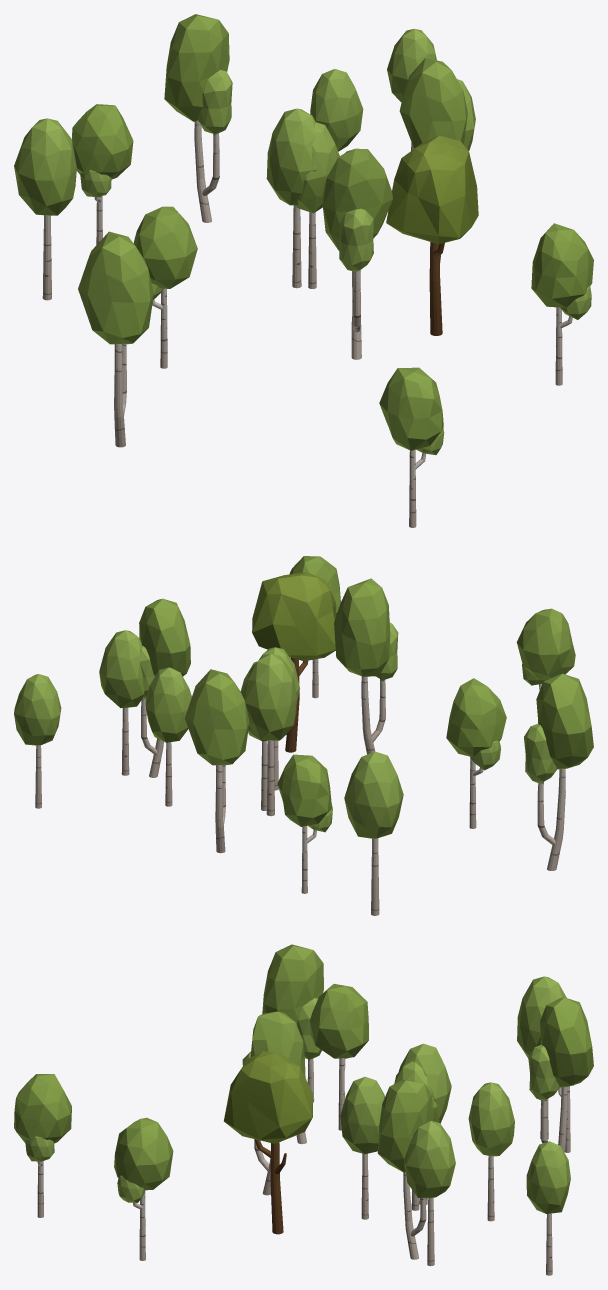
File: Trees17.gltf
3 renders of one model, top to bottom at view 1: azimuth 30°, elevation 25°; view 2: azimuth 150°, elevation 25°; view 3: azimuth 270°, elevation 25°, orthographic. The views are drawn at different scales.
Visible parts, largest first — view 1: Beechtree3 - copy.002, BirchTree2 - copy.024, BirchTree2 - copy.011, BirchTree2 - copy.040, BirchTree1 - copy.007, BirchTree3 - copy.036, BirchTree3 - copy.004, BirchTree3 - copy.010, BirchTree3 - copy.033, BirchTree2 - copy.026, BirchTree1 - copy.040, BirchTree1 - copy.047 (+2 smaller); view 2: BirchTree2 - copy.011, Beechtree3 - copy.002, BirchTree2 - copy.040, BirchTree2 - copy.024, BirchTree1 - copy.007, BirchTree3 - copy.033, BirchTree1 - copy.040, BirchTree2 - copy.026, BirchTree3 - copy.010, BirchTree3 - copy.004, BirchTree1 - copy.030, BirchTree1 - copy.047 (+4 smaller); view 3: Beechtree3 - copy.002, BirchTree2 - copy.024, BirchTree2 - copy.011, BirchTree2 - copy.026, BirchTree3 - copy.036, BirchTree3 - copy.004, BirchTree3 - copy.033, BirchTree1 - copy.030, BirchTree1 - copy.047, BirchTree1 - copy.054, BirchTree1 - copy.031, BirchTree2 - copy.040 (+3 smaller).
Part boxes in pixels (x1=…): Beechtree3 - copy.002: x1=386, y1=135, x2=478, y2=335; BirchTree2 - copy.024: x1=164, y1=14, x2=232, y2=222; BirchTree2 - copy.011: x1=78, y1=231, x2=153, y2=447; BirchTree2 - copy.040: x1=322, y1=148, x2=392, y2=359; BirchTree1 - copy.007: x1=14, y1=118, x2=76, y2=300; BirchTree3 - copy.036: x1=531, y1=223, x2=593, y2=385; BirchTree3 - copy.004: x1=379, y1=367, x2=444, y2=527; BirchTree3 - copy.010: x1=72, y1=104, x2=133, y2=244; BirchTree3 - copy.033: x1=133, y1=206, x2=197, y2=368; BirchTree2 - copy.026: x1=399, y1=58, x2=467, y2=148; BirchTree1 - copy.040: x1=266, y1=108, x2=316, y2=288; BirchTree1 - copy.047: x1=310, y1=69, x2=363, y2=151; BirchTree2 - copy.011: x1=524, y1=673, x2=593, y2=870; Beechtree3 - copy.002: x1=252, y1=572, x2=336, y2=752; BirchTree2 - copy.040: x1=334, y1=578, x2=398, y2=754; BirchTree2 - copy.024: x1=185, y1=669, x2=249, y2=853; BirchTree1 - copy.007: x1=344, y1=751, x2=403, y2=915; BirchTree3 - copy.033: x1=446, y1=678, x2=506, y2=828; BirchTree1 - copy.040: x1=242, y1=654, x2=297, y2=816; BirchTree2 - copy.026: x1=139, y1=598, x2=190, y2=777; BirchTree3 - copy.010: x1=277, y1=754, x2=332, y2=893; BirchTree3 - copy.004: x1=516, y1=608, x2=575, y2=689; BirchTree1 - copy.030: x1=99, y1=630, x2=144, y2=775; BirchTree1 - copy.047: x1=145, y1=667, x2=191, y2=806; Beechtree3 - copy.002: x1=224, y1=1051, x2=312, y2=1234; BirchTree2 - copy.024: x1=528, y1=997, x2=593, y2=1152; BirchTree2 - copy.011: x1=262, y1=944, x2=323, y2=1144; BirchTree2 - copy.026: x1=377, y1=1079, x2=433, y2=1259; BirchTree3 - copy.036: x1=114, y1=1117, x2=173, y2=1260; BirchTree3 - copy.004: x1=14, y1=1074, x2=71, y2=1217; BirchTree3 - copy.033: x1=309, y1=984, x2=368, y2=1130; BirchTree1 - copy.030: x1=404, y1=1121, x2=455, y2=1266; BirchTree1 - copy.047: x1=468, y1=1082, x2=514, y2=1221; BirchTree1 - copy.054: x1=340, y1=1076, x2=384, y2=1219; BirchTree1 - copy.031: x1=526, y1=1141, x2=570, y2=1275; BirchTree2 - copy.040: x1=242, y1=1011, x2=305, y2=1195.
Bounding box in the file's own units: 26.63 × 14.43 × 30.05.
Materials: 4 (4 with a texture image).
